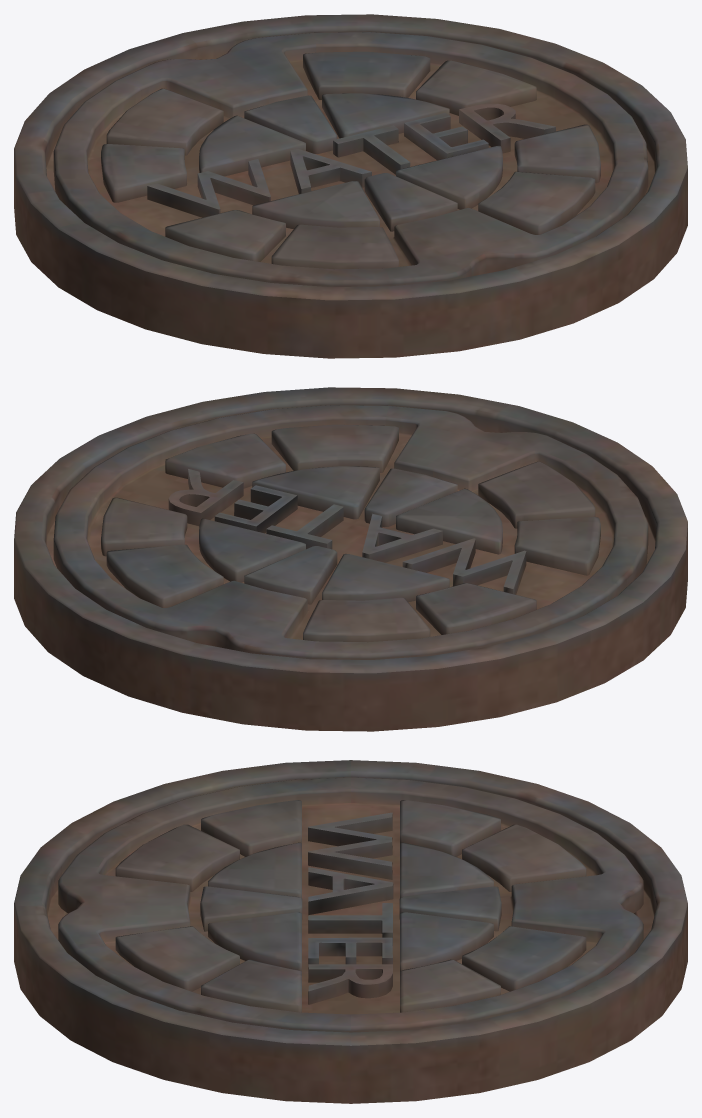
File: water_manhole_cover.glb
3 views of the same model, one above another, from view 1: azimuth 30°, elevation 25°; view 2: azimuth 150°, elevation 25°; view 3: azimuth 270°, elevation 25° (orthographic).
Parts seen in each view (by area): view 1: water_manhole_cover_frame; view 2: water_manhole_cover_frame; view 3: water_manhole_cover_frame.
Part boxes in pixels (left/top/right/bottom): water_manhole_cover_frame: left=14, top=14, right=687, bottom=358; water_manhole_cover_frame: left=14, top=387, right=687, bottom=731; water_manhole_cover_frame: left=14, top=760, right=687, bottom=1103.
Bounding box in the file's own units: 0.6908 × 0.0676 × 0.6908.
1 material, 1 textured.
